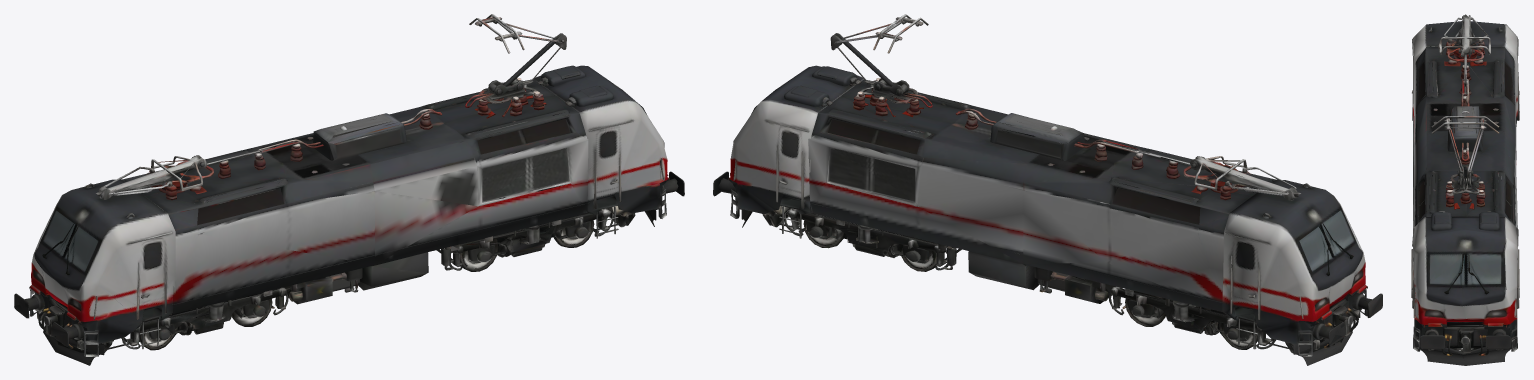
Rendered from train.glb.
The picture shows the model from 3 angles, left to right: view 1: azimuth 30°, elevation 25°; view 2: azimuth 150°, elevation 25°; view 3: azimuth 270°, elevation 25°; orthographic projection. The views are drawn at different scales.
Size of the model in its own units: 0.9531 by 0.3316 by 0.1704.
Materials: 1 (1 with a texture image).
